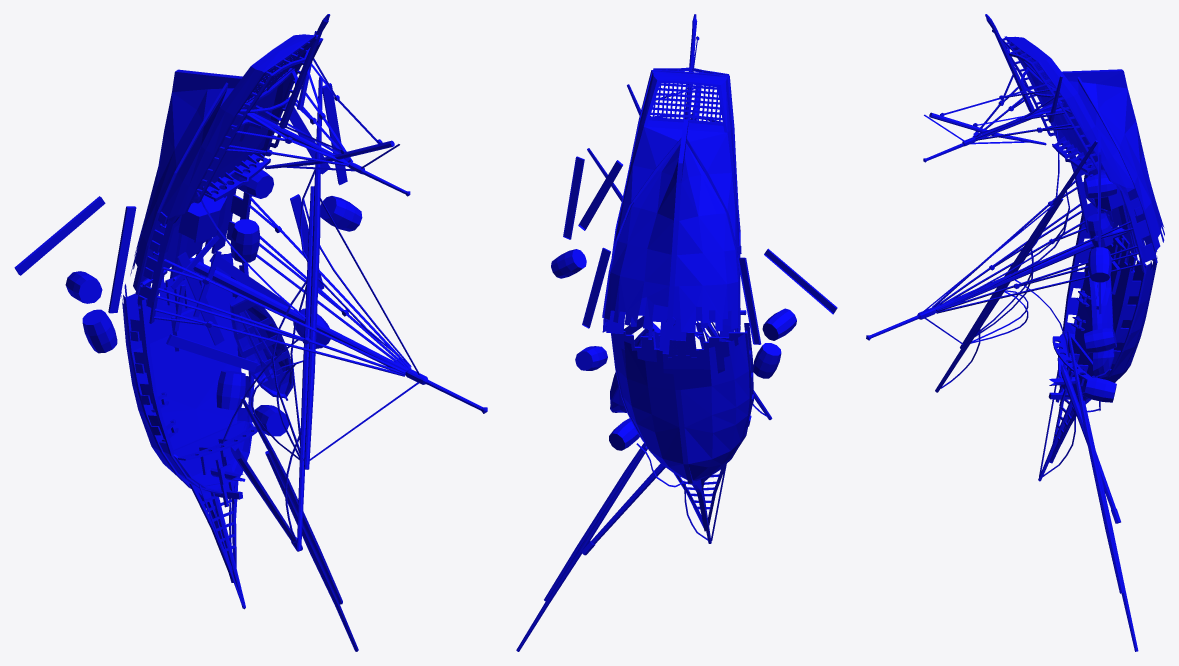
Rendered from xebec_death2.obj.
3 views of the same model, side by side, from view 1: azimuth 30°, elevation 25°; view 2: azimuth 150°, elevation 25°; view 3: azimuth 270°, elevation 25° (orthographic). The views are drawn at different scales.
Visible parts, largest first — view 1: Object; view 2: Object; view 3: Object.
Part boxes in pixels (bbox=[...]): Object: bbox=[14, 14, 487, 651]; Object: bbox=[516, 14, 837, 651]; Object: bbox=[866, 14, 1164, 651].
Bounding box in the file's own units: 9.04 × 17.33 × 7.95.
